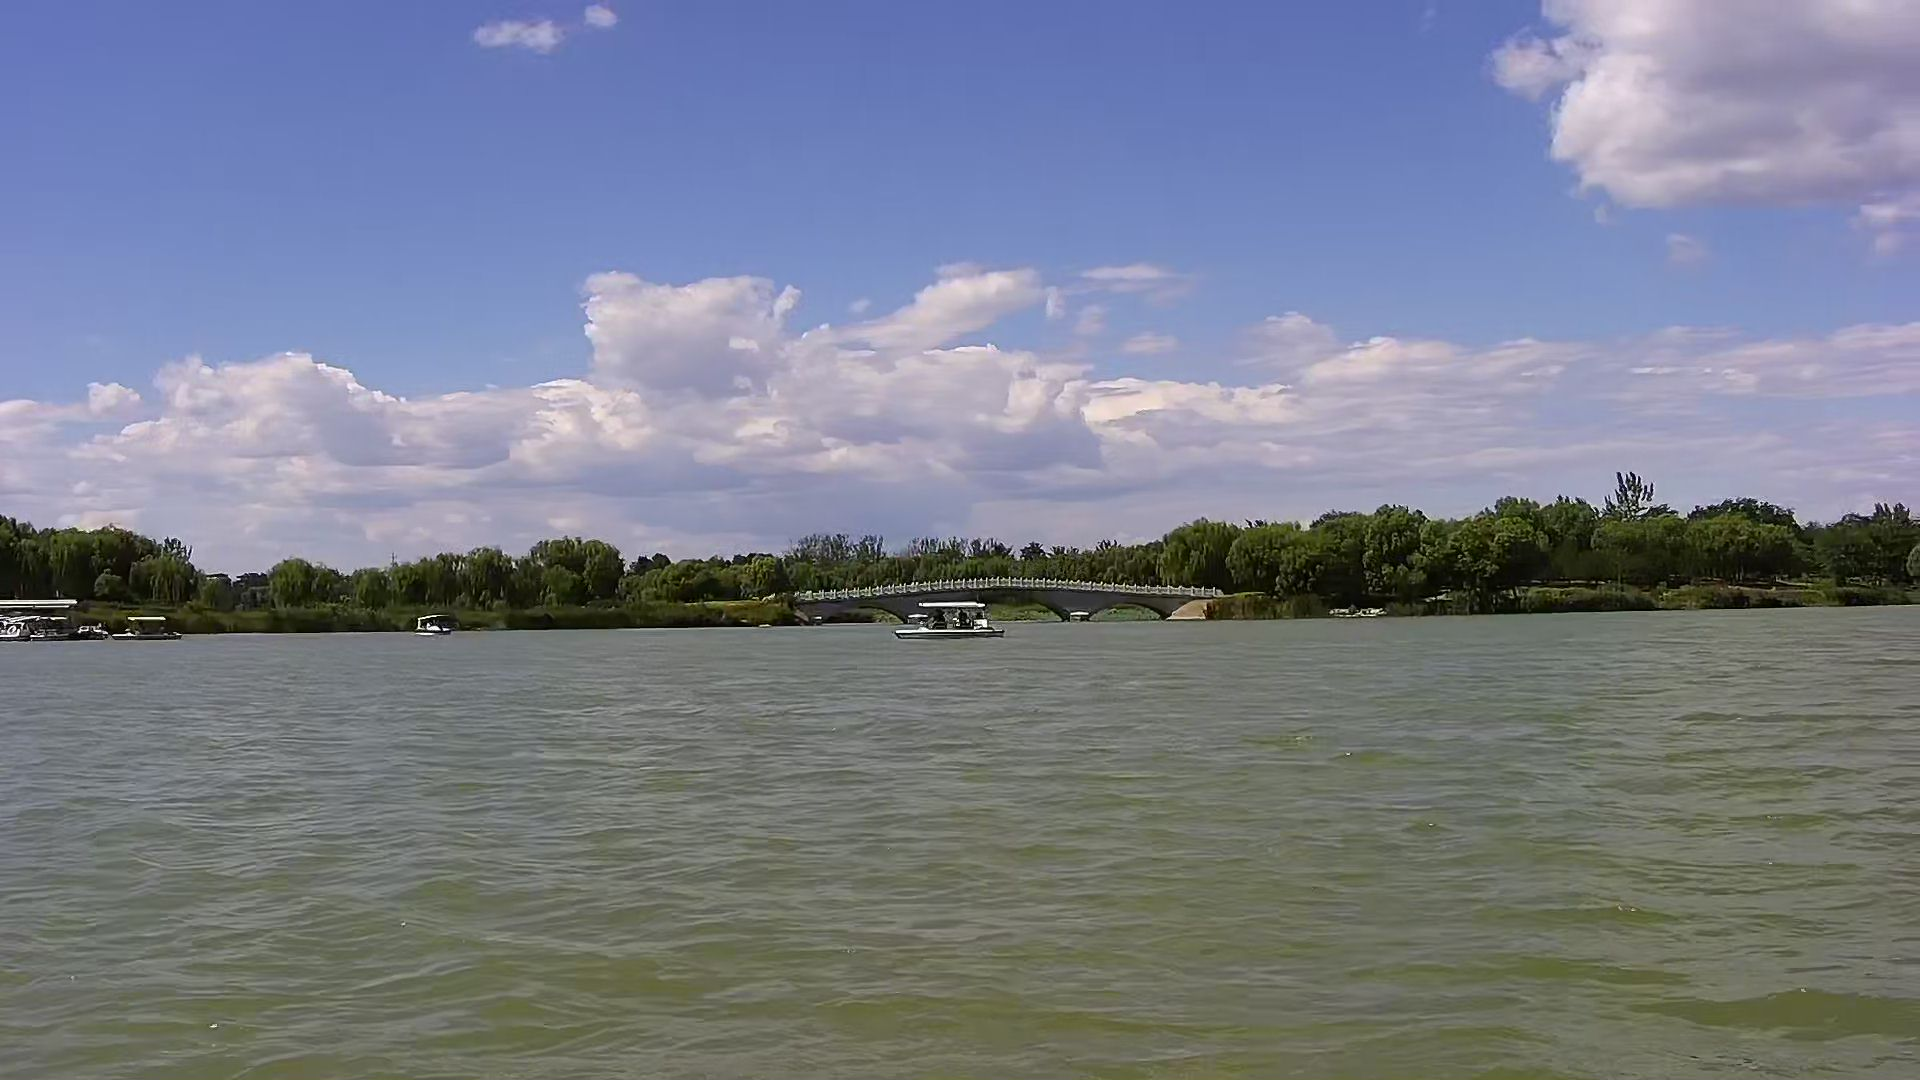boat: (889, 593, 1014, 645), (107, 616, 187, 650), (405, 604, 458, 640), (7, 618, 61, 642)
bridge: (791, 576, 1218, 620)
